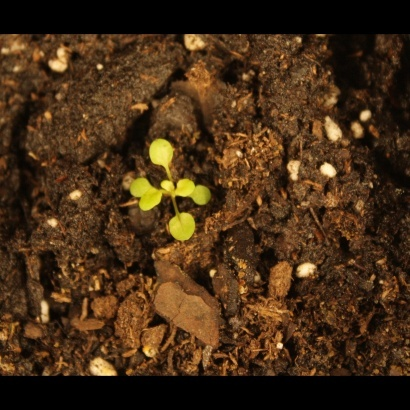leaf: (162, 209, 203, 245), (141, 137, 180, 167), (187, 184, 215, 209), (136, 189, 162, 215), (127, 177, 153, 201), (155, 174, 178, 197), (173, 178, 196, 201)
